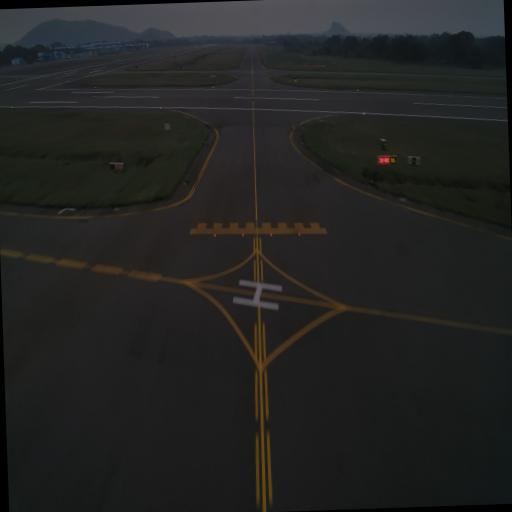on: (239, 225, 247, 240), (210, 228, 220, 240), (296, 225, 302, 242), (268, 230, 272, 237)
